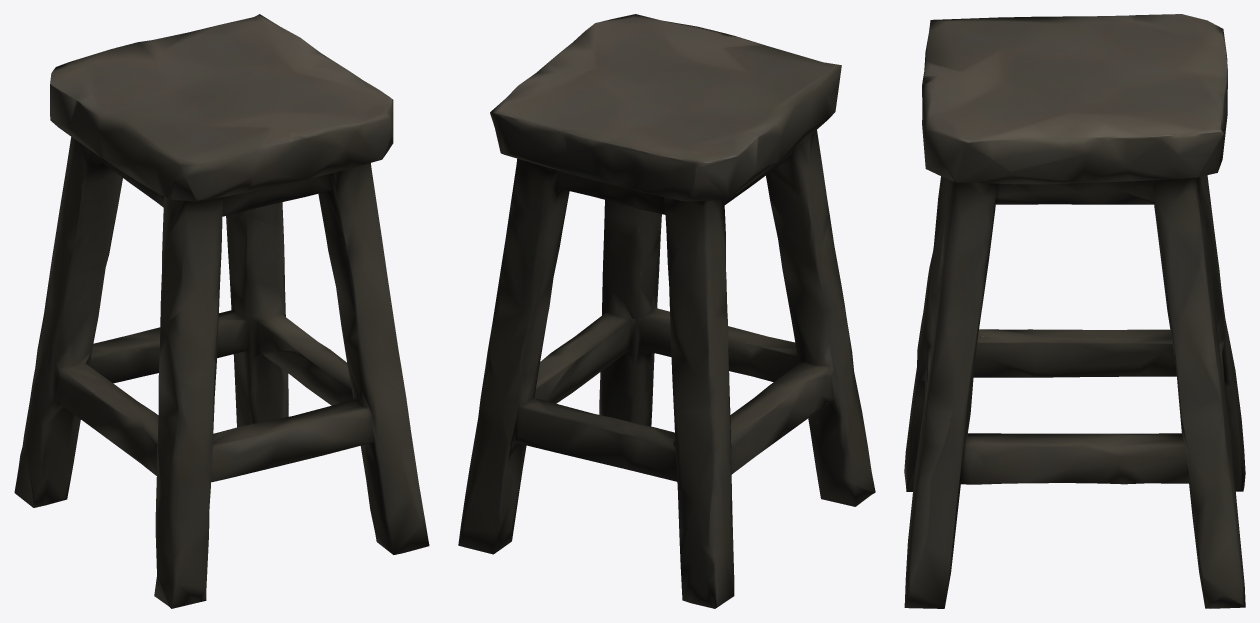
File: bar_stool_square.glb
3 renders of one model, left to right at view 1: azimuth 30°, elevation 25°; view 2: azimuth 150°, elevation 25°; view 3: azimuth 270°, elevation 25°, orthographic. The views are drawn at different scales.
Parts seen in each view (by area): view 1: tripo_node_4b659beb-f969-4b66-8b39-a2f9303fa916; view 2: tripo_node_4b659beb-f969-4b66-8b39-a2f9303fa916; view 3: tripo_node_4b659beb-f969-4b66-8b39-a2f9303fa916.
Part boxes in pixels (box(x1,y1,x2,y2)): tripo_node_4b659beb-f969-4b66-8b39-a2f9303fa916: box(14, 14, 429, 608); tripo_node_4b659beb-f969-4b66-8b39-a2f9303fa916: box(458, 14, 875, 608); tripo_node_4b659beb-f969-4b66-8b39-a2f9303fa916: box(904, 14, 1245, 608).
Size of the model in its own units: 0.6232 by 1 by 0.6605.
Materials: 1 (1 with a texture image).
